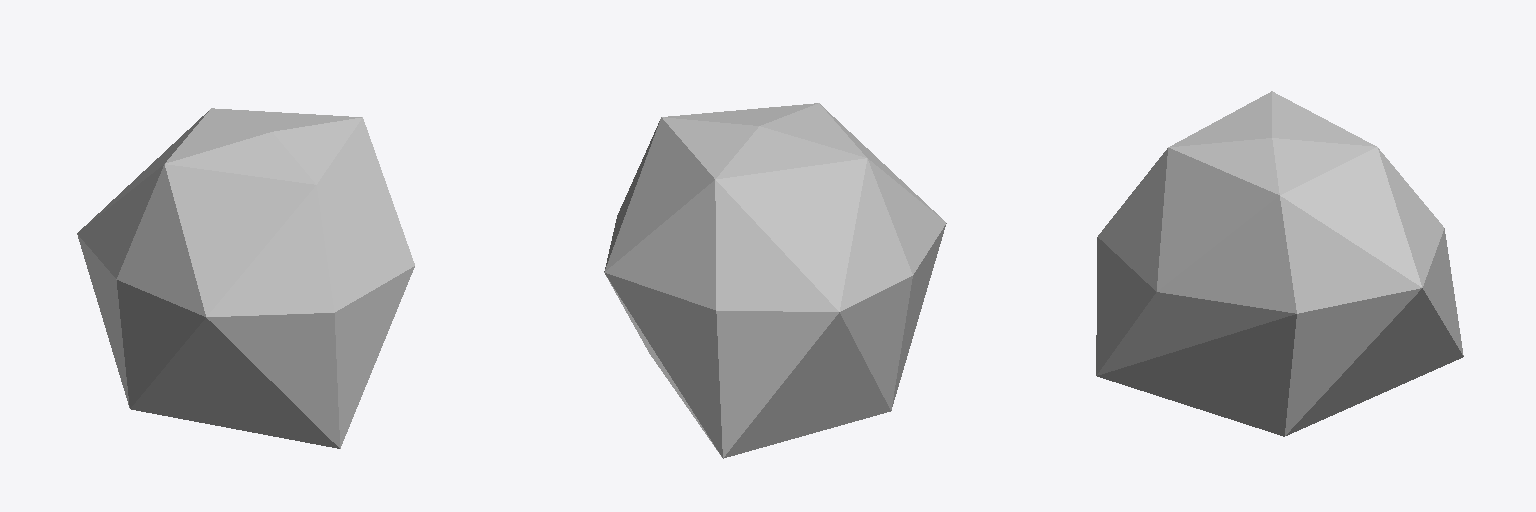
Rendered from rock1.obj.
The picture shows the model from 3 angles: view 1: azimuth 30°, elevation 25°; view 2: azimuth 150°, elevation 25°; view 3: azimuth 270°, elevation 25°; orthographic projection.
Visible parts, largest first — view 1: Object.1; view 2: Object.1; view 3: Object.1.
Boxes of the visible parts, <box> form: Object.1: <box>77,108,414,448</box>; Object.1: <box>604,103,946,458</box>; Object.1: <box>1096,91,1463,436</box>.
Size of the model in its own units: 1.2 by 1 by 1.34.